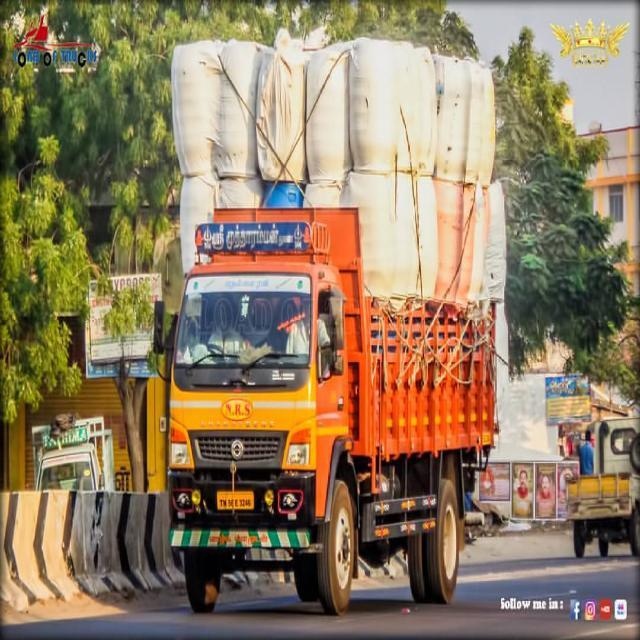Truck: (152, 191, 496, 617), (565, 416, 640, 559)
